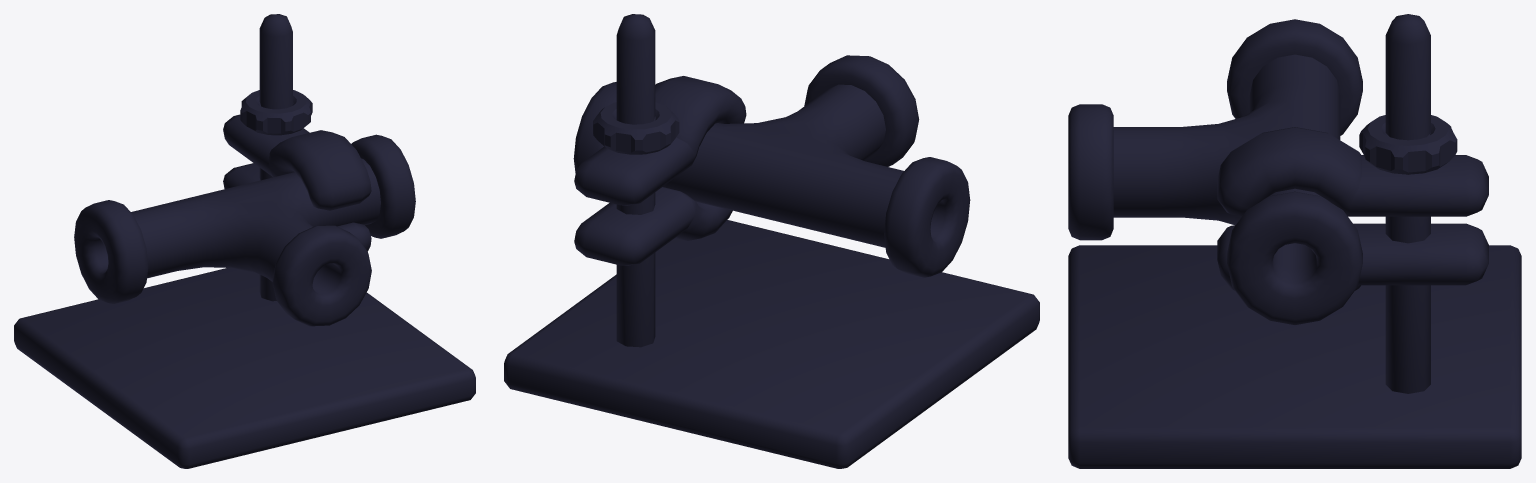
File: Constructing_Pipe_Tri.fbx
3 renders of one model, left to right at view 1: azimuth 30°, elevation 25°; view 2: azimuth 150°, elevation 25°; view 3: azimuth 270°, elevation 25°, orthographic. The views are drawn at different scales.
Visible parts, largest first — view 1: Stand_Base_Small001; view 2: Stand_Base_Small001; view 3: Stand_Base_Small001.
Part boxes in pixels (x1=…): Stand_Base_Small001: x1=14, y1=14, x2=475, y2=468; Stand_Base_Small001: x1=504, y1=14, x2=1039, y2=468; Stand_Base_Small001: x1=1068, y1=14, x2=1521, y2=468.
Bounding box in the file's own units: 100 × 100 × 100.
